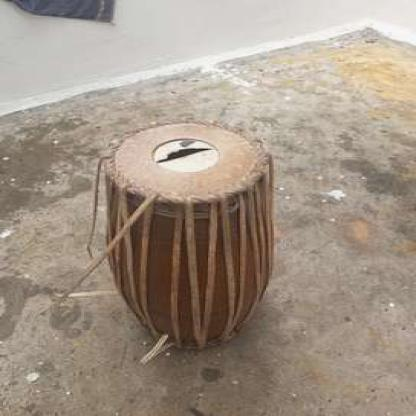Mridangam: (84, 112, 290, 356)
